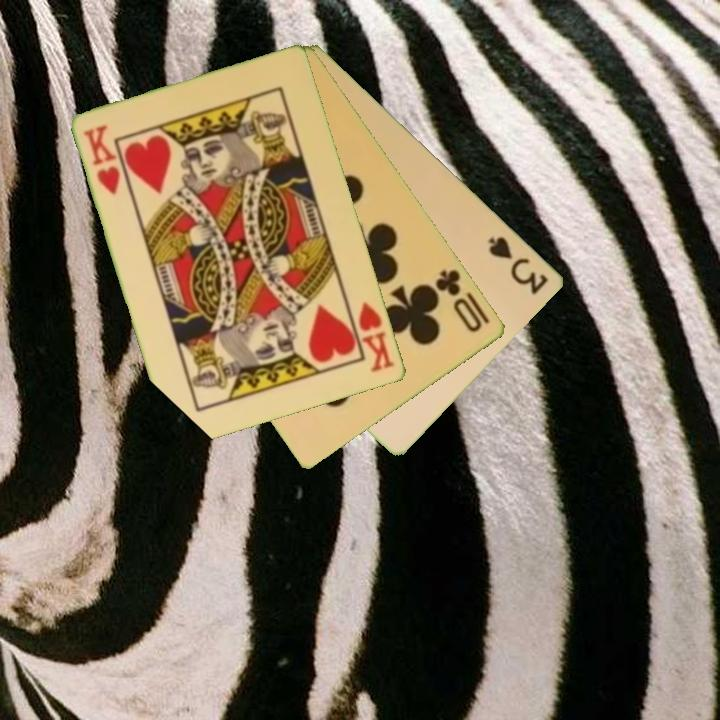10c: (432, 265, 486, 336)
3s: (485, 233, 552, 298)
Kh: (345, 298, 398, 376), (80, 121, 124, 198)
